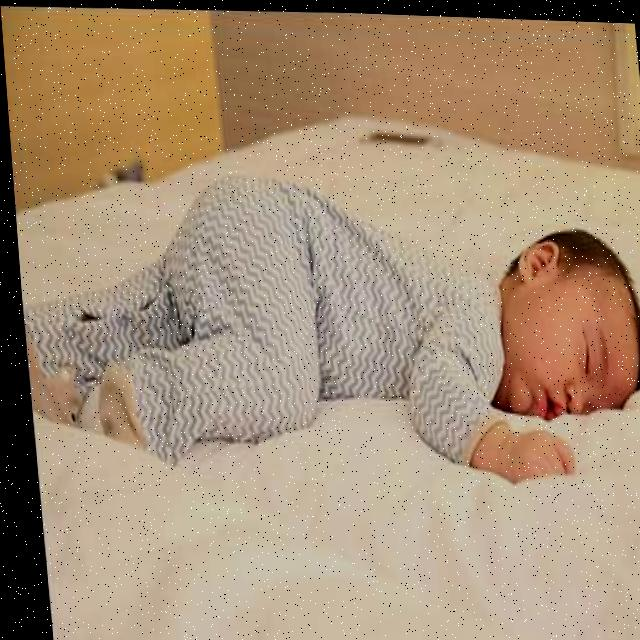sleeping-person: (8, 138, 640, 503)
